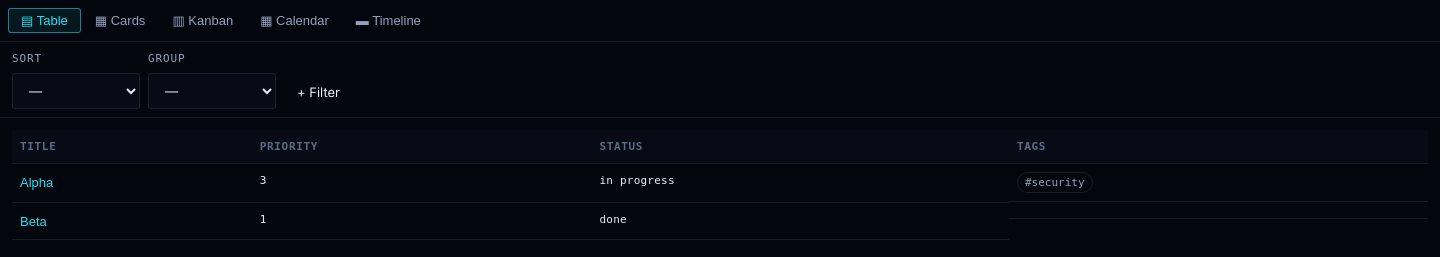
Test case: ViewsStage › switches to the timeline view
Expected: the button "Alpha" is shown, [20, 175, 53, 190]
Click the tab "▬ Timeline".
click(388, 20)  # box [343, 8, 434, 33]
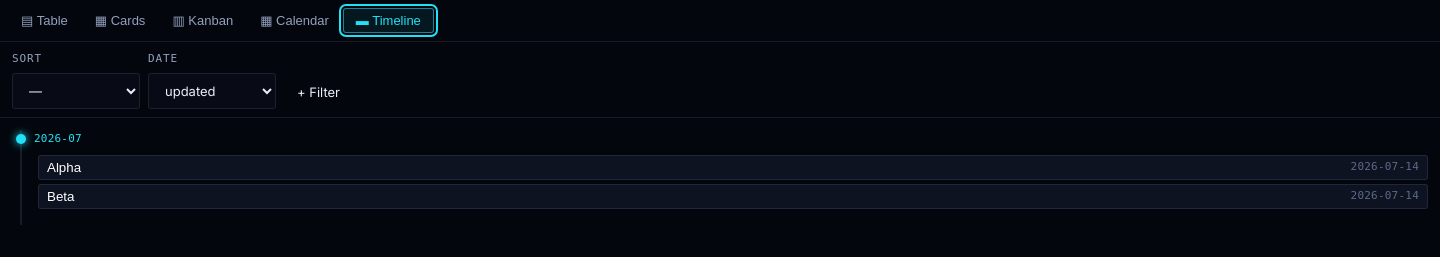
Expected: the element with class "timeline" is shown, [12, 130, 1428, 225]
